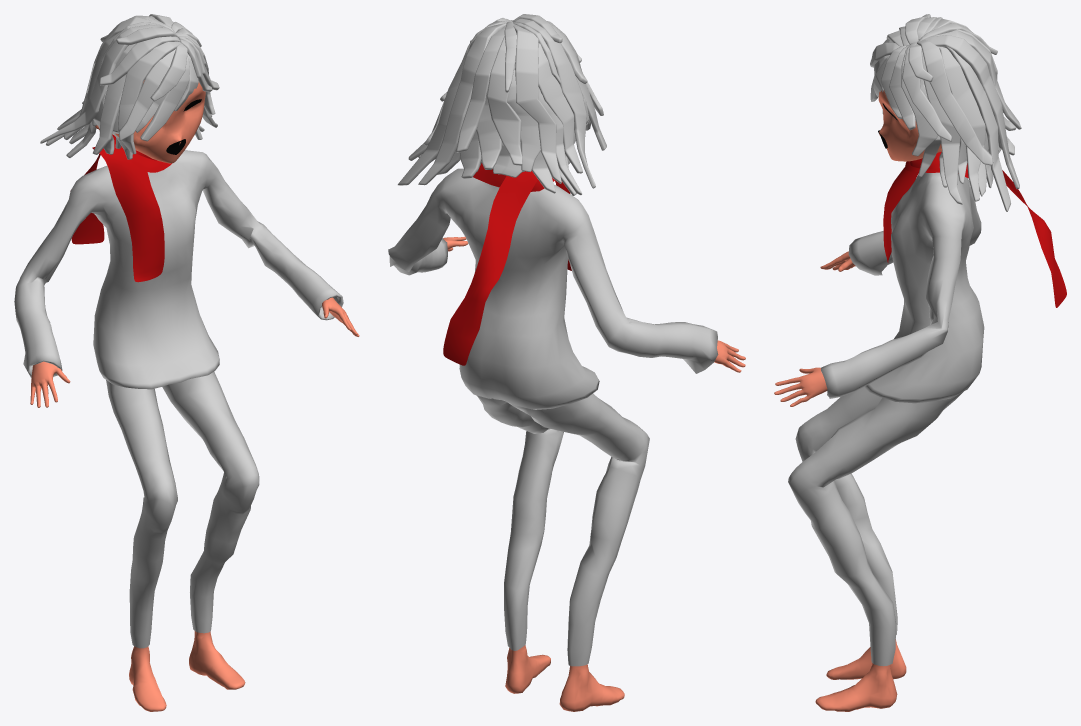
The model's file is Girl.obj.
3 renders of one model, left to right at view 1: azimuth 30°, elevation 25°; view 2: azimuth 150°, elevation 25°; view 3: azimuth 270°, elevation 25°, orthographic. The views are drawn at different scales.
Visible parts, largest first — view 1: Top_pERSONAJE.004, bot_pERSONAJE.005, hair_Hair001.baked.001, scarf_Cube, body_pERSONAJE.002, Head_Hair001.baked.005; view 2: Top_pERSONAJE.004, hair_Hair001.baked.001, bot_pERSONAJE.005, scarf_Cube, body_pERSONAJE.002; view 3: Top_pERSONAJE.004, hair_Hair001.baked.001, bot_pERSONAJE.005, body_pERSONAJE.002, scarf_Cube, Head_Hair001.baked.005.
Part boxes in pixels (x1,y1,x2,y2): Top_pERSONAJE.004: [14, 150, 343, 389]; bot_pERSONAJE.005: [106, 372, 259, 648]; hair_Hair001.baked.001: [40, 14, 219, 159]; scarf_Cube: [71, 134, 171, 282]; body_pERSONAJE.002: [30, 297, 359, 711]; Head_Hair001.baked.005: [95, 80, 205, 163]; Top_pERSONAJE.004: [388, 168, 718, 409]; hair_Hair001.baked.001: [397, 14, 606, 195]; bot_pERSONAJE.005: [476, 393, 649, 666]; scarf_Cube: [443, 163, 571, 365]; body_pERSONAJE.002: [443, 236, 745, 711]; Top_pERSONAJE.004: [821, 172, 984, 403]; hair_Hair001.baked.001: [870, 14, 1021, 211]; bot_pERSONAJE.005: [788, 387, 963, 666]; body_pERSONAJE.002: [774, 251, 906, 711]; scarf_Cube: [883, 152, 1066, 307]; Head_Hair001.baked.005: [878, 90, 941, 161].
Size of the model in its own units: 0.7368 by 1.49 by 0.5874.
